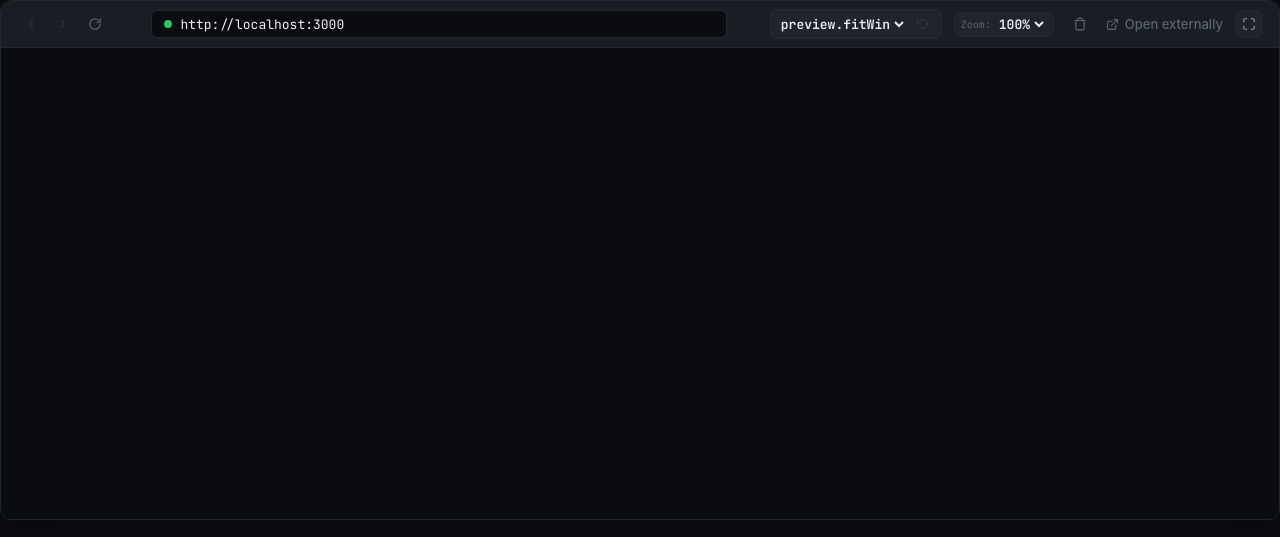
Test case: AppPreviewTab editable address bar › reverts to the live URL when the input loses focus without submitting
The width and height of the screenshot is (1280, 537).
Type "garbage" into the field named "Preview address" at [447, 24], box [180,16,714,32]
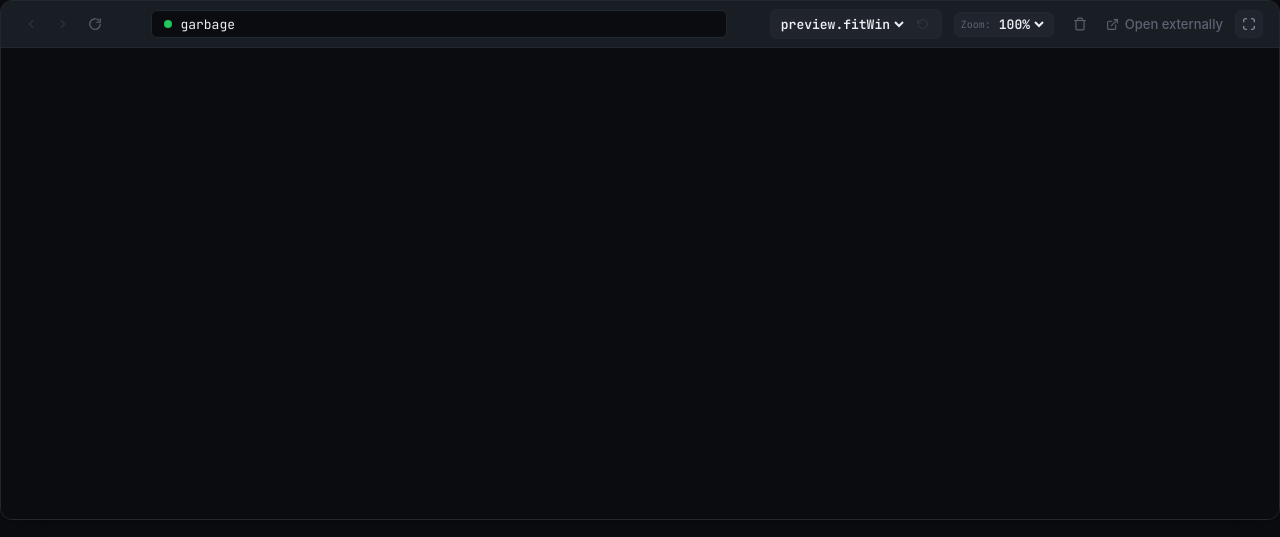
Leave the field named "Preview address", box [180,16,714,32]
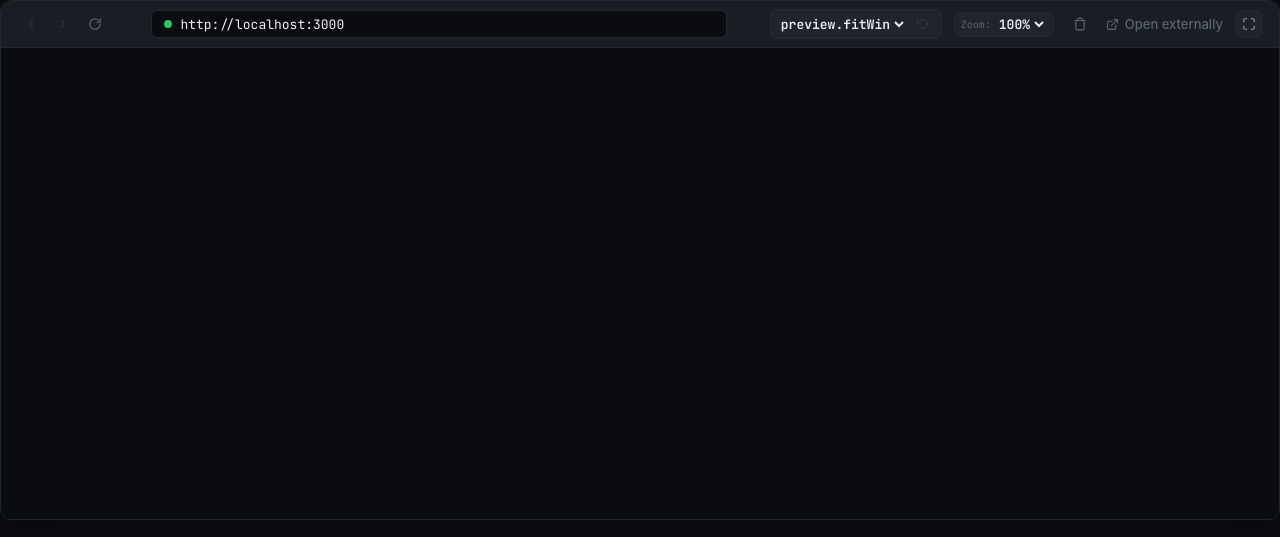
Now the field named "Preview address" holds "http://localhost:3000", box [180,16,714,32]
